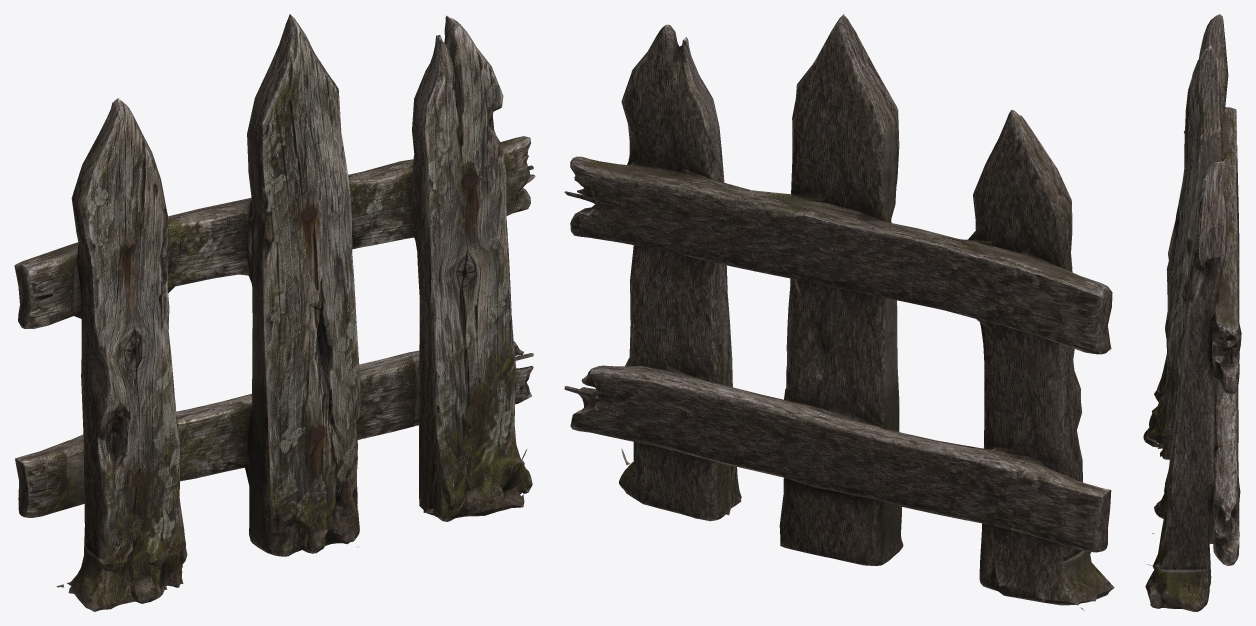
The picture shows the model from 3 angles, left to right: view 1: azimuth 30°, elevation 25°; view 2: azimuth 150°, elevation 25°; view 3: azimuth 270°, elevation 25°; orthographic projection. The views are drawn at different scales.
Visible parts, largest first — view 1: m8.glb; view 2: m8.glb; view 3: m8.glb.
Boxes of the visible parts, x1,y1,x2,y2 form: m8.glb: [14, 14, 535, 611]; m8.glb: [564, 14, 1114, 610]; m8.glb: [1143, 14, 1241, 611].
Bounding box in the file's own units: 1.9 × 1.83 × 0.3422.
1 material, 1 textured.
